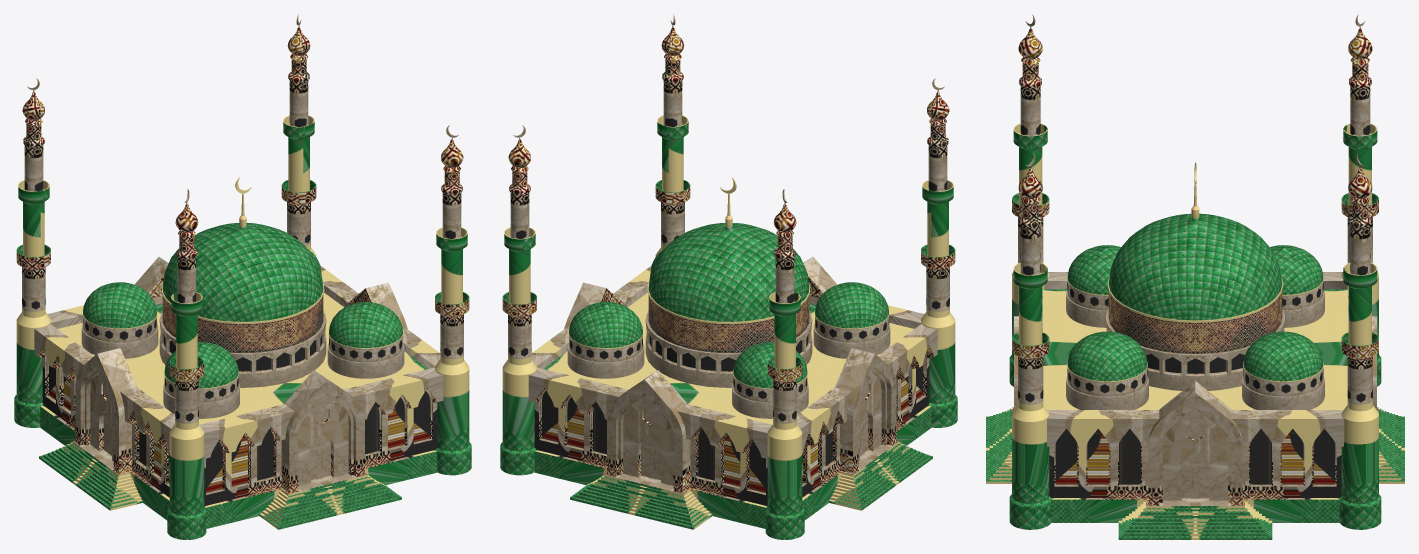
Rendered from mosque.glb.
3 views of the same model, side by side, from view 1: azimuth 30°, elevation 25°; view 2: azimuth 150°, elevation 25°; view 3: azimuth 270°, elevation 25° (orthographic). The views are drawn at different scales.
Visible parts, largest first — view 1: Mosque; view 2: Mosque; view 3: Mosque.
Part boxes in pixels (x1,y1,x2,y2): Mosque: [14, 14, 471, 539]; Mosque: [500, 14, 957, 539]; Mosque: [986, 14, 1404, 539].
Bounding box in the file's own units: 33.53 × 32.54 × 33.53.
Materials: 1 (1 with a texture image).
